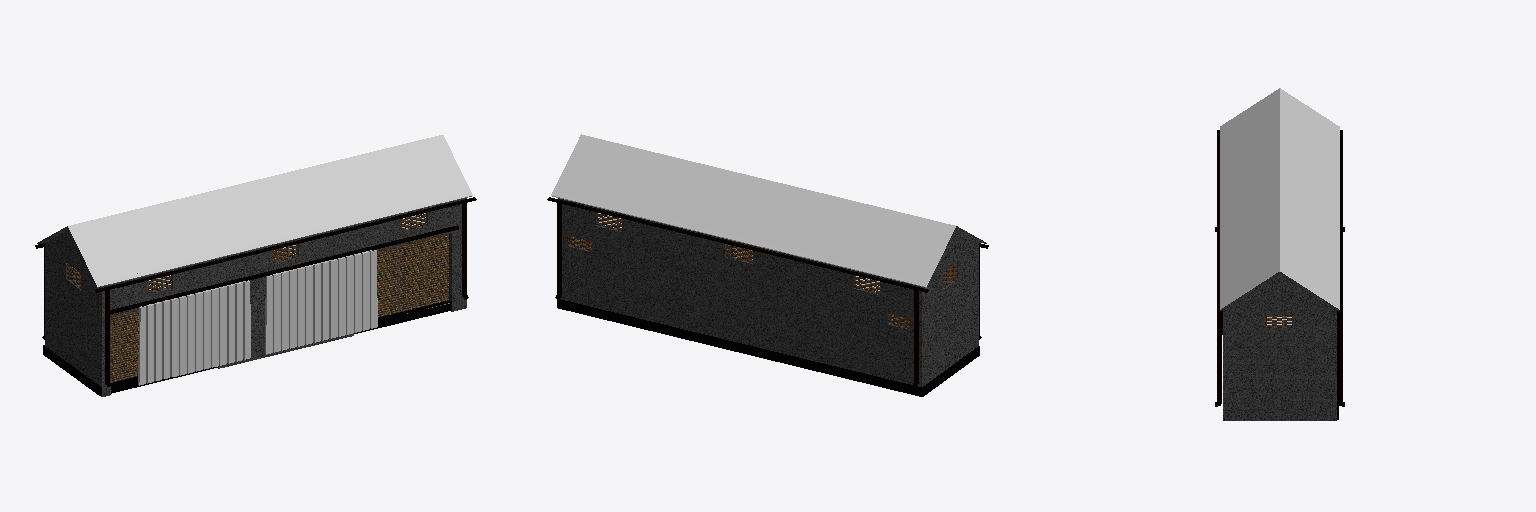
3 renders of one model, left to right at view 1: azimuth 30°, elevation 25°; view 2: azimuth 150°, elevation 25°; view 3: azimuth 270°, elevation 25°, orthographic.
Parts seen in each view (by area): view 1: stodola, Torus.002, Torus.001, Cylinder, Plane.002, Cube.018; view 2: stodola, Plane.002, Cylinder.001; view 3: stodola, Cylinder, Cylinder.001.
Boxes of the visible parts, box(x1,y1,x2,y2) form: stodola: box(37, 135, 472, 396); Torus.002: box(265, 247, 377, 354); Torus.001: box(138, 278, 250, 385); Cylinder: box(95, 197, 476, 386); Plane.002: box(43, 300, 451, 395); Cube.018: box(110, 225, 458, 313); stodola: box(551, 134, 986, 396); Plane.002: box(557, 299, 979, 396); Cylinder.001: box(547, 197, 928, 386); stodola: box(1220, 88, 1339, 420); Cylinder: box(1215, 130, 1221, 406); Cylinder.001: box(1338, 130, 1344, 406).
Size of the model in its own units: 47.49 by 18.19 by 14.06.
Materials: 23 (5 with a texture image).